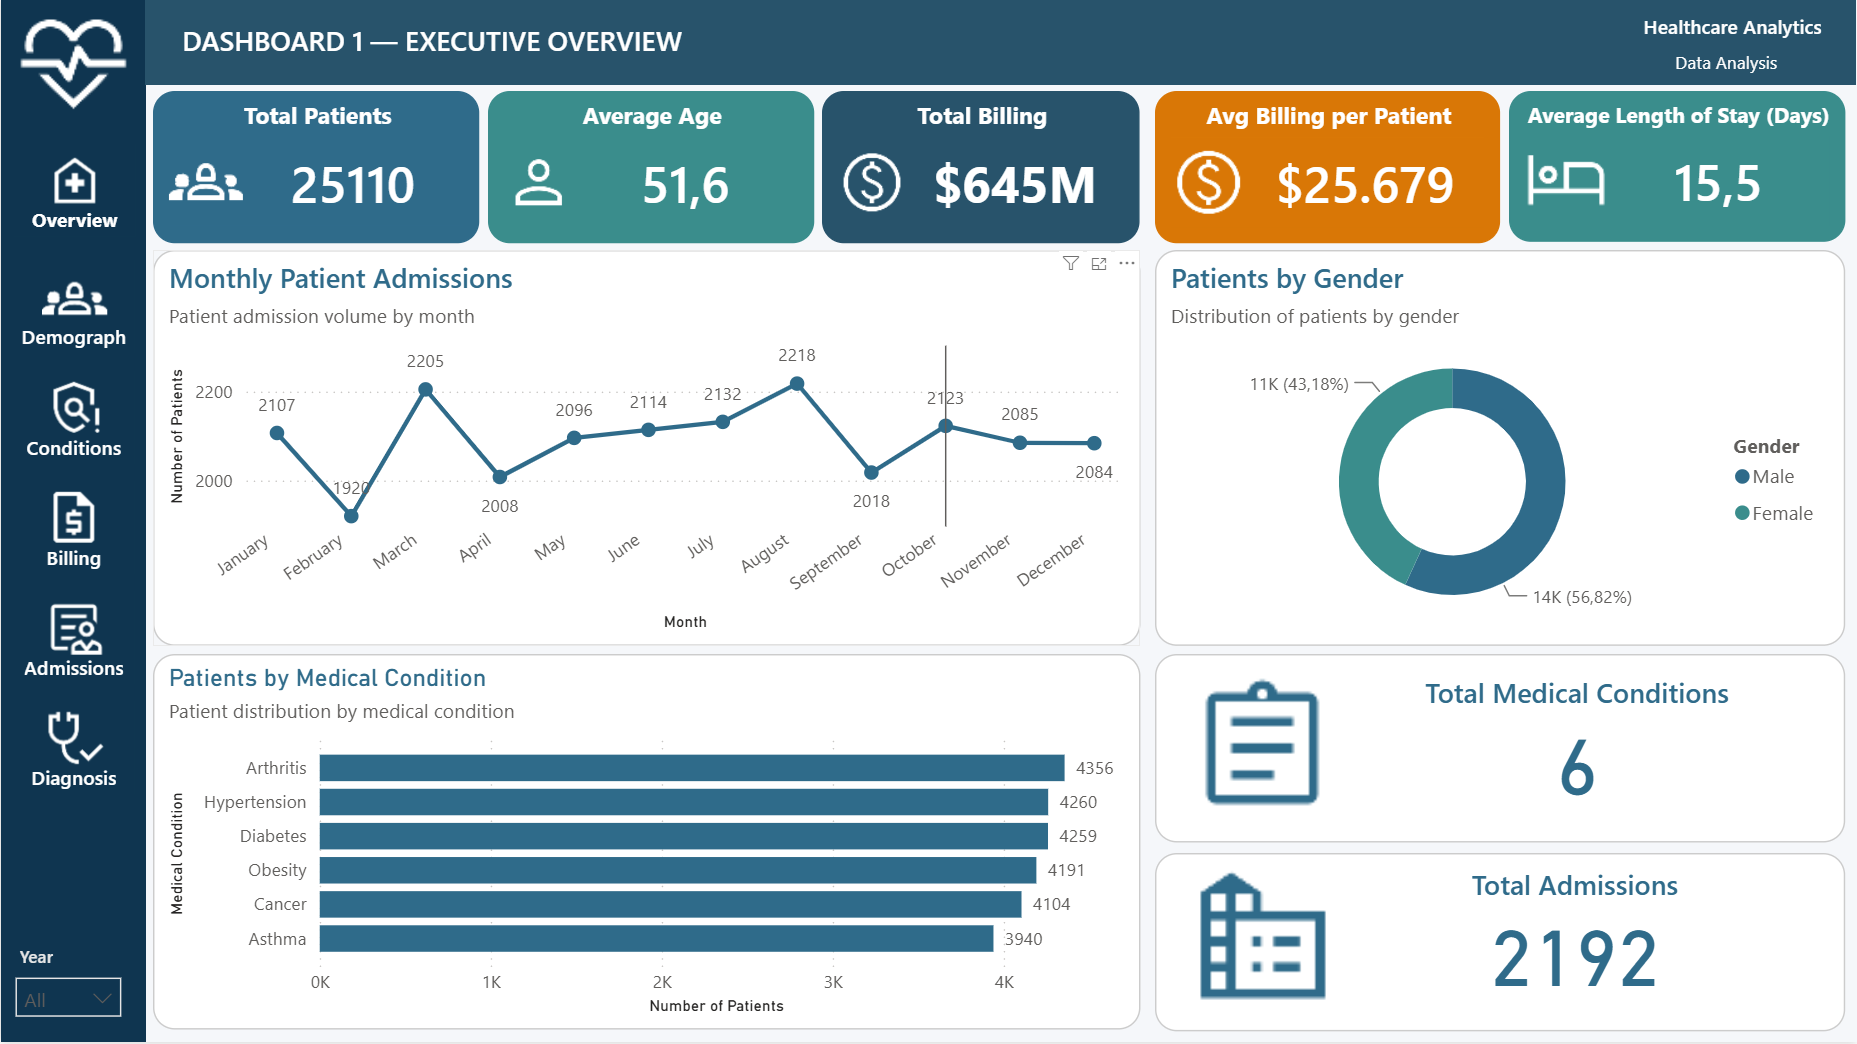

This screenshot's page, from the dashboard's own definition file:
{"tool":"powerbi","page":{"name":"Overview","canvas":[1280,720],"ordinal":0},"visuals":[{"type":"group","id":"g1","title":"Navigation Bar","box":[0,0,100.2,720],"z":0},{"type":"shape","title":"Sidebar","box":[0,0,100,720],"z":1000,"group":"g1"},{"type":"shape","box":[99.6,0,1180.2,60],"z":1000},{"type":"actionButton","title":"NAV - Overview","box":[8.7,100.8,84,64],"z":1500,"group":"g1"},{"type":"textbox","title":"Left header title","box":[120,12,500.7,35],"z":2000},{"type":"actionButton","title":"NAV - Demographics","box":[8.6,181,84,64.5],"z":2000,"group":"g1"},{"type":"textbox","box":[1070.2,5.5,190.4,29.5],"z":3000},{"type":"actionButton","title":"NAV - Conditions","box":[8.6,257,84,64.5],"z":3000,"group":"g1"},{"type":"textbox","box":[1113.2,29.5,153.6,30.1],"z":4000},{"type":"actionButton","title":"NAV - Billing","box":[8.6,333,84,64.5],"z":4000,"group":"g1"},{"type":"cardVisual","title":"Total Patients","fields":{"Data":["Healthcare Dataset.Total Patients"]},"box":[104.7,64,225.3,104.7],"z":5000},{"type":"actionButton","title":"NAV - Admissions","box":[8.6,409,84,64.5],"z":5000,"group":"g1"},{"type":"cardVisual","title":"Average Length of Stay (Days)","fields":{"Data":["Healthcare Dataset.Average Stay"]},"box":[1040,64,232,104],"z":6000},{"type":"actionButton","title":"NAV - Diagnosis","box":[8.6,485,84,64.5],"z":6000,"group":"g1"},{"type":"cardVisual","title":"Total Billing","fields":{"Data":["Healthcare Dataset.Total Billing"]},"box":[566,64,219.3,105.3],"z":7000},{"type":"cardVisual","title":"Average Age","fields":{"Data":["Healthcare Dataset.Average Age"]},"box":[336,64,224.7,104.7],"z":8000},{"type":"cardVisual","title":"Avg Billing per Patient","fields":{"Data":["Healthcare Dataset.Avg Billing per Patient"]},"box":[796,64,238,105],"z":9000},{"type":"lineChart","title":"Monthly Patient Admissions","fields":{"Category":["Healthcare Dataset.Date of Admission.Variation.Date Hierarchy.Month"],"Y":["Healthcare Dataset.Total Patients"]},"box":[104.7,174,680.7,272.7],"z":10000},{"type":"donutChart","title":"Patients by Gender","fields":{"Category":["Healthcare Dataset.Gender"],"Y":["Healthcare Dataset.Total Patients"]},"box":[796,174,476,272.7],"z":11000},{"type":"clusteredBarChart","title":"Patients by Medical Condition","fields":{"Category":["Healthcare Dataset.Medical Condition"],"Y":["Healthcare Dataset.Total Patients"]},"box":[104.7,452.7,680.7,259.3],"z":12000},{"type":"cardVisual","fields":{"Data":["Healthcare Dataset.Diagnosis Count"]},"box":[796,452.7,476,130],"z":13000},{"type":"cardVisual","fields":{"Data":["Healthcare Dataset.Total Admissions by date"]},"box":[796,589.3,476,122.7],"z":14000},{"type":"image","box":[0,0,99.6,89.7],"z":15000},{"type":"slicer","fields":{"Values":["Healthcare Dataset.Date of Admission.Variation.Date Hierarchy.Year"]},"box":[0,647.6,92.8,55.1],"z":16000}]}

Visuals, with their boxes in screenshot pixels (x1, y1, x2, y2), scaled from the page's 1280x720 canvas onto the 1857x1044 screenshot:
"Navigation Bar" group: pyautogui.locateOnScreen(0, 0, 145, 1043)
"Sidebar" shape: pyautogui.locateOnScreen(0, 0, 145, 1043)
shape: pyautogui.locateOnScreen(144, 0, 1856, 87)
"NAV - Overview" actionButton: pyautogui.locateOnScreen(13, 146, 134, 239)
"Left header title" textbox: pyautogui.locateOnScreen(174, 17, 900, 68)
"NAV - Demographics" actionButton: pyautogui.locateOnScreen(12, 262, 134, 356)
textbox: pyautogui.locateOnScreen(1553, 8, 1829, 51)
"NAV - Conditions" actionButton: pyautogui.locateOnScreen(12, 373, 134, 466)
textbox: pyautogui.locateOnScreen(1615, 43, 1838, 86)
"NAV - Billing" actionButton: pyautogui.locateOnScreen(12, 483, 134, 576)
"Total Patients" cardVisual: pyautogui.locateOnScreen(152, 93, 479, 245)
"NAV - Admissions" actionButton: pyautogui.locateOnScreen(12, 593, 134, 687)
"Average Length of Stay (Days)" cardVisual: pyautogui.locateOnScreen(1509, 93, 1845, 244)
"NAV - Diagnosis" actionButton: pyautogui.locateOnScreen(12, 703, 134, 797)
"Total Billing" cardVisual: pyautogui.locateOnScreen(821, 93, 1139, 245)
"Average Age" cardVisual: pyautogui.locateOnScreen(487, 93, 813, 245)
"Avg Billing per Patient" cardVisual: pyautogui.locateOnScreen(1155, 93, 1500, 245)
"Monthly Patient Admissions" lineChart: pyautogui.locateOnScreen(152, 252, 1139, 648)
"Patients by Gender" donutChart: pyautogui.locateOnScreen(1155, 252, 1845, 648)
"Patients by Medical Condition" clusteredBarChart: pyautogui.locateOnScreen(152, 656, 1139, 1032)
cardVisual - Healthcare Dataset.Diagnosis Count: pyautogui.locateOnScreen(1155, 656, 1845, 845)
cardVisual - Healthcare Dataset.Total Admissions by date: pyautogui.locateOnScreen(1155, 854, 1845, 1032)
image: pyautogui.locateOnScreen(0, 0, 144, 130)
slicer - Healthcare Dataset.Date of Admission.Variation.Date Hierarchy.Year: pyautogui.locateOnScreen(0, 939, 135, 1019)
